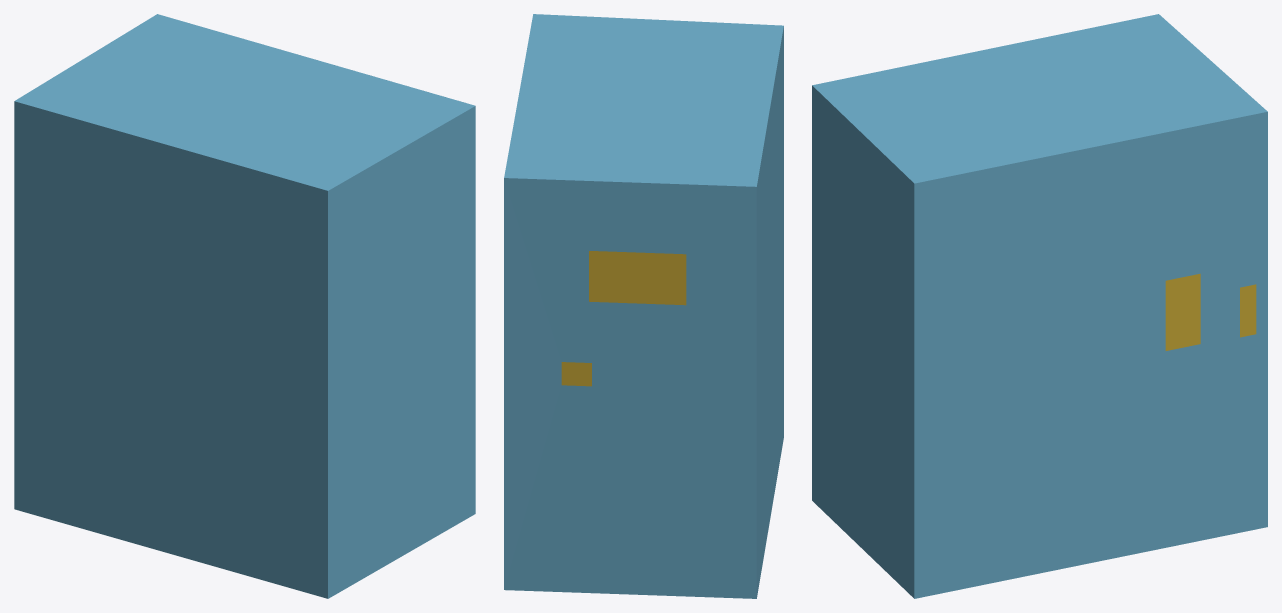
The model's file is bldg_7a6a2b22-d965-4f9c-a2ee-8bba0f467b78.obj.
3 renders of one model, left to right at view 1: azimuth 30°, elevation 25°; view 2: azimuth 150°, elevation 25°; view 3: azimuth 270°, elevation 25°, orthographic.
Size of the model in its own units: 8.28 by 9.46 by 9.41.
